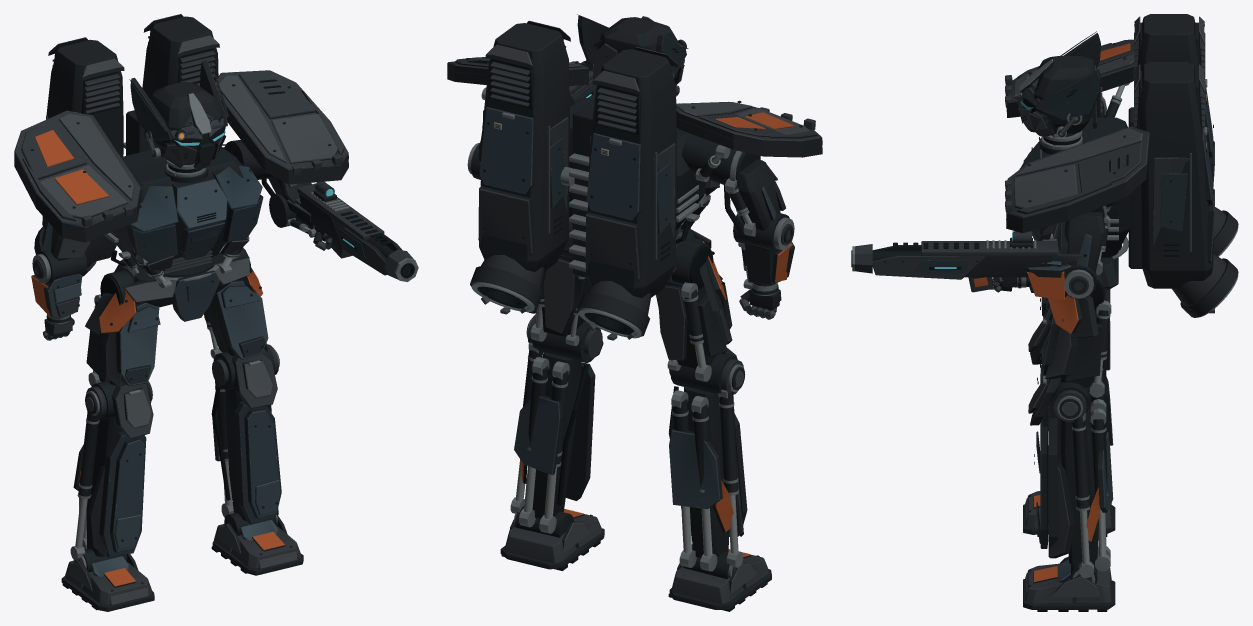
The model's file is m07-cangyan-v7.glb.
3 views of the same model, side by side, from view 1: azimuth 30°, elevation 25°; view 2: azimuth 150°, elevation 25°; view 3: azimuth 270°, elevation 25° (orthographic). The views are drawn at different scales.
Visible parts, largest first — view 1: M07_Upper_armor, M07_Shin_L_armor, M07_Shin_R_armor, M07_Body_armor, M07_Rifle_armor, M07_Thigh_L_armor, M07_Foot_L_armor, M07_Foot_R_armor, M07_Thigh_R_armor; view 2: M07_Upper_armor, M07_Shin_L_armor, M07_Shin_R_armor, M07_Thigh_L_armor, M07_Foot_R_armor, M07_Foot_L_armor, M07_Thigh_R_armor, M07_Body_armor; view 3: M07_Upper_armor, M07_Shin_R_armor, M07_Rifle_armor, M07_Thigh_R_armor, M07_Foot_R_armor, M07_Body_armor, M07_Shin_L_armor, M07_Foot_L_armor.
Part boxes in pixels (box(x1,y1,x2,y2)): M07_Upper_armor: box(14, 14, 348, 340); M07_Shin_L_armor: box(70, 381, 153, 560); M07_Shin_R_armor: box(211, 344, 281, 524); M07_Body_armor: box(85, 248, 262, 335); M07_Rifle_armor: box(286, 181, 418, 282); M07_Thigh_L_armor: box(86, 276, 160, 387); M07_Foot_L_armor: box(61, 548, 154, 611); M07_Foot_R_armor: box(211, 512, 303, 575); M07_Thigh_R_armor: box(204, 247, 268, 359); M07_Upper_armor: box(447, 14, 822, 340); M07_Shin_L_armor: box(668, 347, 747, 571); M07_Shin_R_armor: box(510, 313, 603, 533); M07_Thigh_L_armor: box(655, 246, 732, 381); M07_Foot_R_armor: box(500, 505, 604, 570); M07_Foot_L_armor: box(668, 544, 771, 611); M07_Thigh_R_armor: box(528, 254, 591, 345); M07_Body_armor: box(561, 222, 726, 311); M07_Upper_armor: box(1005, 14, 1238, 317); M07_Shin_R_armor: box(1028, 376, 1113, 577); M07_Rifle_armor: box(851, 231, 1088, 299); M07_Thigh_R_armor: box(1040, 281, 1111, 397); M07_Foot_R_armor: box(1023, 556, 1115, 611); M07_Body_armor: box(1048, 256, 1118, 337); M07_Shin_L_armor: box(1028, 316, 1113, 473); M07_Foot_L_armor: box(1023, 491, 1115, 536).
Size of the model in its own units: 10.02 by 16.19 by 11.06.
